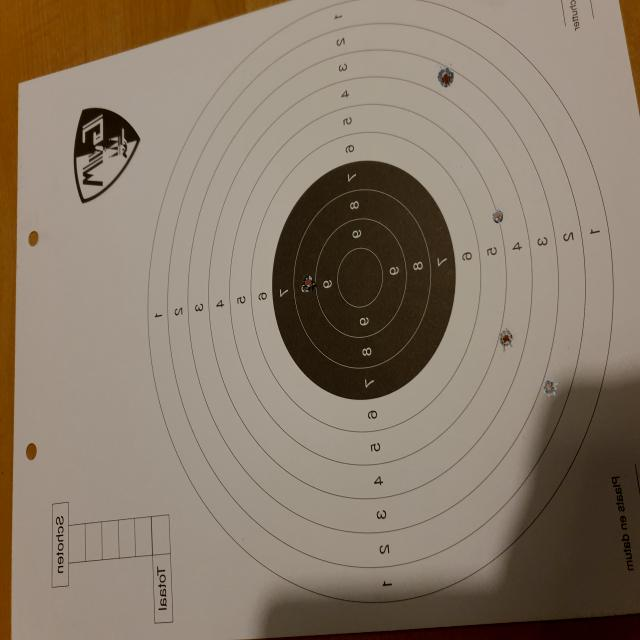2: (542, 379, 558, 397)
3: (437, 65, 454, 88)
5: (499, 328, 514, 353), (491, 209, 503, 224)
9: (300, 274, 317, 294)
Target: (147, 0, 616, 604)
black_contour: (273, 161, 455, 401)
